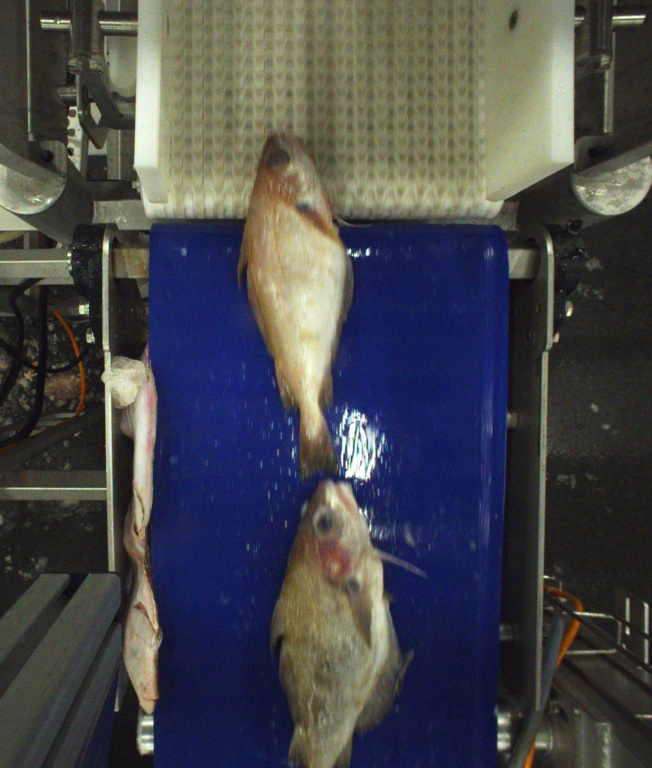BIB: (243, 134, 350, 473)
